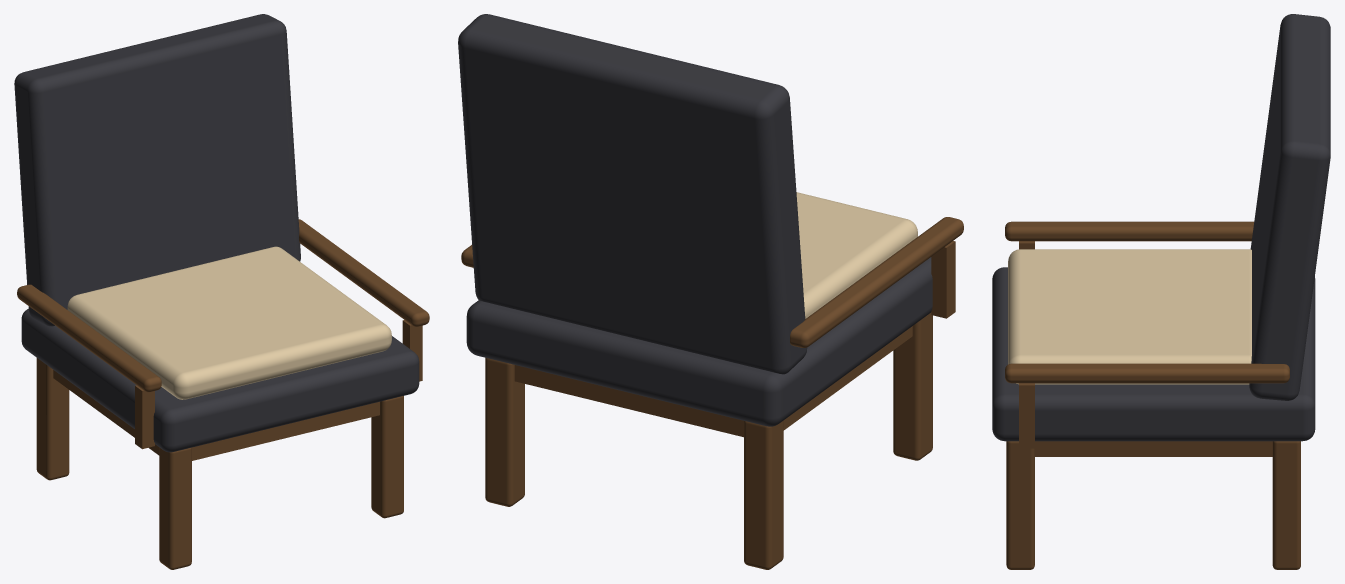
The model's file is chair.glb.
The picture shows the model from 3 angles, left to right: view 1: azimuth 30°, elevation 25°; view 2: azimuth 150°, elevation 25°; view 3: azimuth 270°, elevation 25°; orthographic projection. The views are drawn at different scales.
Visible parts, largest first — view 1: Backrest, Cushion, Seat, Frame_Leg_3, Frame_Leg_4, Frame_Leg_1, Frame_Arm_Left, Frame_Arm_Right, Frame_Rail_Front, Frame_Arm_Post_Left, Frame_Rail_Left, Frame_Arm_Post_Right; view 2: Backrest, Seat, Cushion, Frame_Leg_1, Frame_Leg_2, Frame_Leg_3, Frame_Arm_Left, Frame_Rail_Back, Frame_Arm_Post_Left, Frame_Rail_Left; view 3: Cushion, Backrest, Seat, Frame_Arm_Right, Frame_Arm_Left, Frame_Rail_Right, Frame_Leg_2, Frame_Leg_4, Frame_Arm_Post_Right.
Part boxes in pixels (left/top/right/bottom): Backrest: left=14, top=14, right=300, bottom=326; Cushion: left=67, top=246, right=391, bottom=399; Seat: left=21, top=309, right=419, bottom=452; Frame_Leg_3: left=159, top=447, right=191, bottom=569; Frame_Leg_4: left=371, top=396, right=403, bottom=518; Frame_Leg_1: left=36, top=358, right=69, bottom=480; Frame_Arm_Left: left=17, top=284, right=161, bottom=392; Frame_Arm_Right: left=298, top=219, right=429, bottom=326; Frame_Rail_Front: left=192, top=401, right=379, bottom=460; Frame_Arm_Post_Left: left=135, top=385, right=154, bottom=449; Frame_Rail_Left: left=53, top=370, right=159, bottom=455; Frame_Arm_Post_Right: left=402, top=320, right=422, bottom=381; Backrest: left=458, top=14, right=807, bottom=374; Seat: left=466, top=257, right=932, bottom=426; Cushion: left=796, top=192, right=917, bottom=318; Frame_Leg_1: left=744, top=420, right=783, bottom=569; Frame_Leg_2: left=485, top=357, right=524, bottom=506; Frame_Leg_3: left=893, top=312, right=932, bottom=460; Frame_Arm_Left: left=790, top=217, right=963, bottom=347; Frame_Rail_Back: left=514, top=365, right=743, bottom=437; Frame_Arm_Post_Left: left=931, top=241, right=955, bottom=318; Frame_Rail_Left: left=783, top=326, right=912, bottom=430; Cushion: left=1008, top=249, right=1251, bottom=384; Backrest: left=1249, top=14, right=1330, bottom=400; Seat: left=992, top=267, right=1315, bottom=441; Frame_Arm_Right: left=1005, top=363, right=1289, bottom=383; Frame_Arm_Left: left=1005, top=221, right=1254, bottom=241; Frame_Rail_Right: left=1035, top=441, right=1272, bottom=456; Frame_Leg_2: left=1272, top=441, right=1300, bottom=569; Frame_Leg_4: left=1006, top=441, right=1034, bottom=569; Frame_Arm_Post_Right: left=1019, top=383, right=1034, bottom=448.
Bounding box in the file's own units: 1.13 × 1.5 × 1.07.
